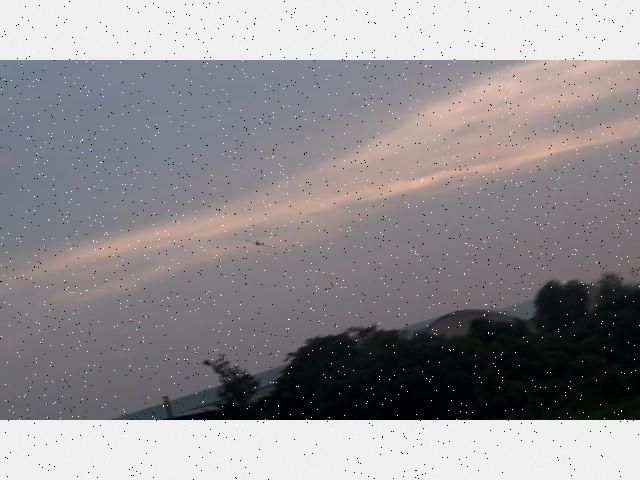Anti-Drone: (245, 240, 275, 250)
